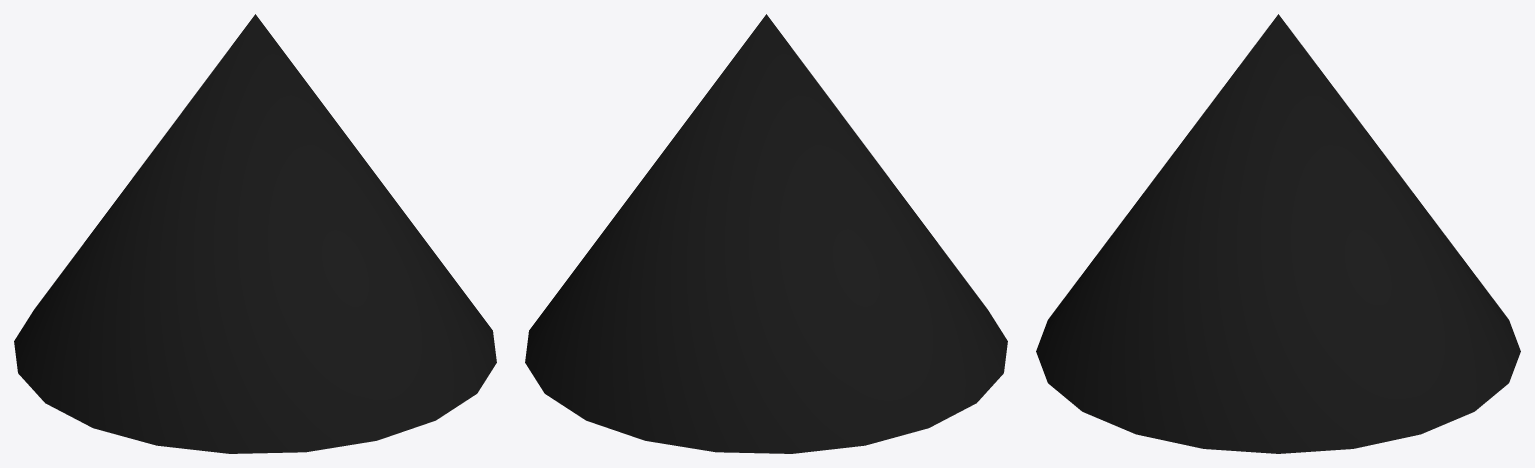
File: fbx_light_2.fbx
3 views of the same model, side by side, from view 1: azimuth 30°, elevation 25°; view 2: azimuth 150°, elevation 25°; view 3: azimuth 270°, elevation 25° (orthographic).
Parts seen in each view (by area): view 1: fbx_light_2; view 2: fbx_light_2; view 3: fbx_light_2.
Part boxes in pixels (box(x1,y1,x2,y2)): fbx_light_2: box(14, 14, 496, 453); fbx_light_2: box(525, 14, 1007, 453); fbx_light_2: box(1036, 14, 1520, 453).
Bounding box in the file's own units: 0.2984 × 0.2507 × 0.2984.
Materials: 1 (1 with a texture image).
